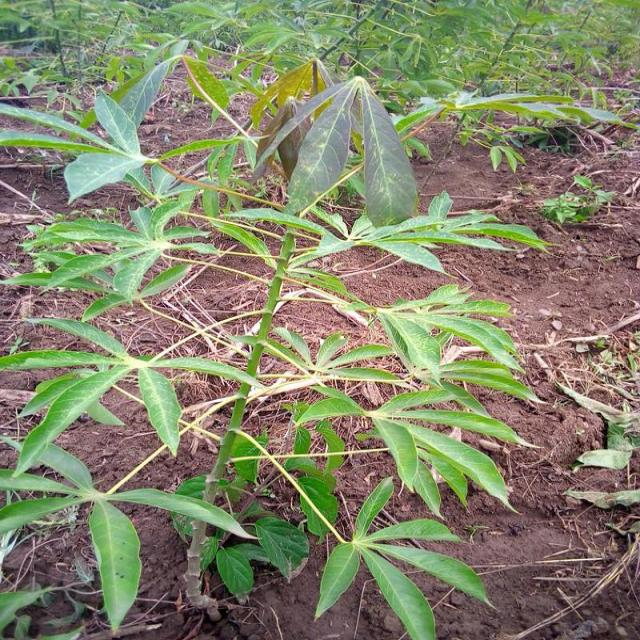cassava leaf: (255, 74, 420, 227)
